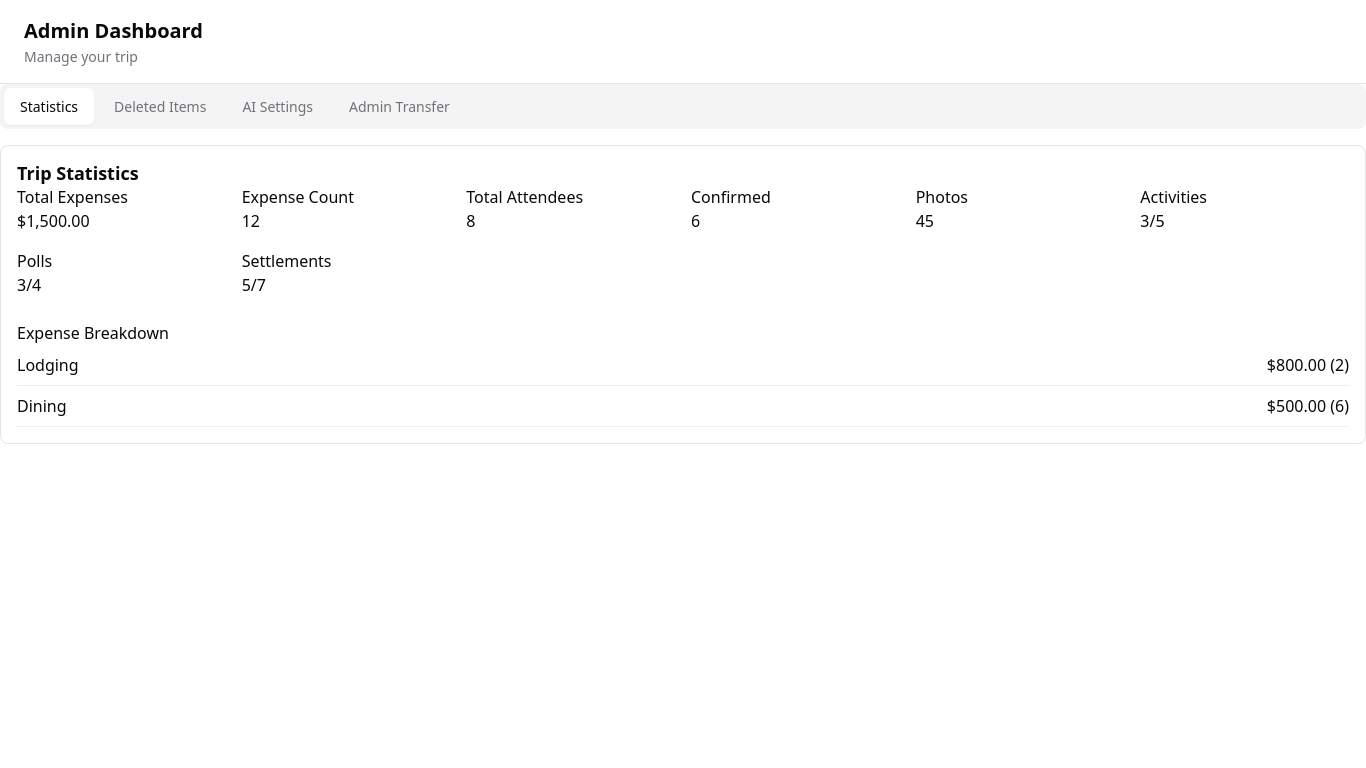
it: AdminPage › admin transfer tab › should open admin transfer modal
The width and height of the screenshot is (1366, 768).
Step 1. Click the tab "Admin Transfer" → (399, 106), box [333, 88, 466, 125]
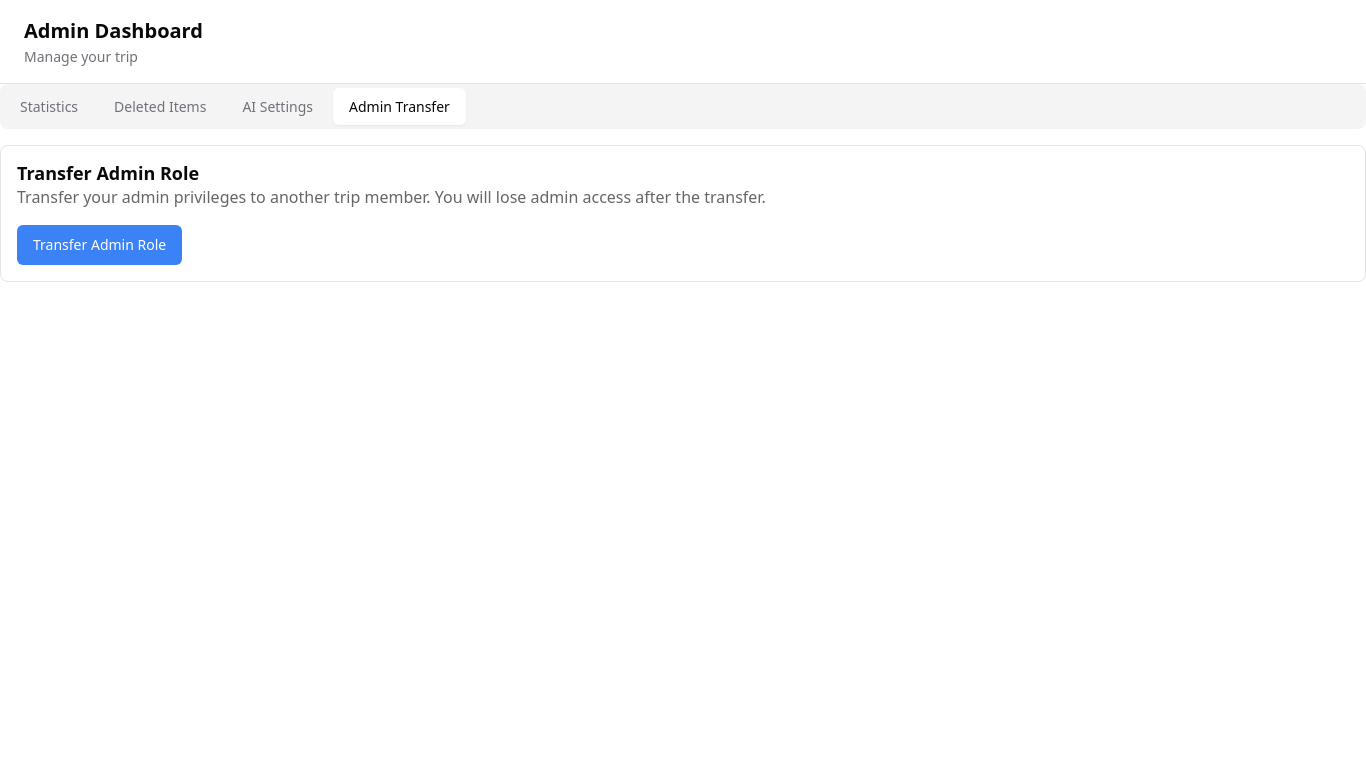
Check: the element with test id "admin-transfer-section" is shown, box [0, 145, 1365, 282]
Step 2. Click the button "Transfer Admin Role" → (100, 244), box [17, 224, 182, 264]
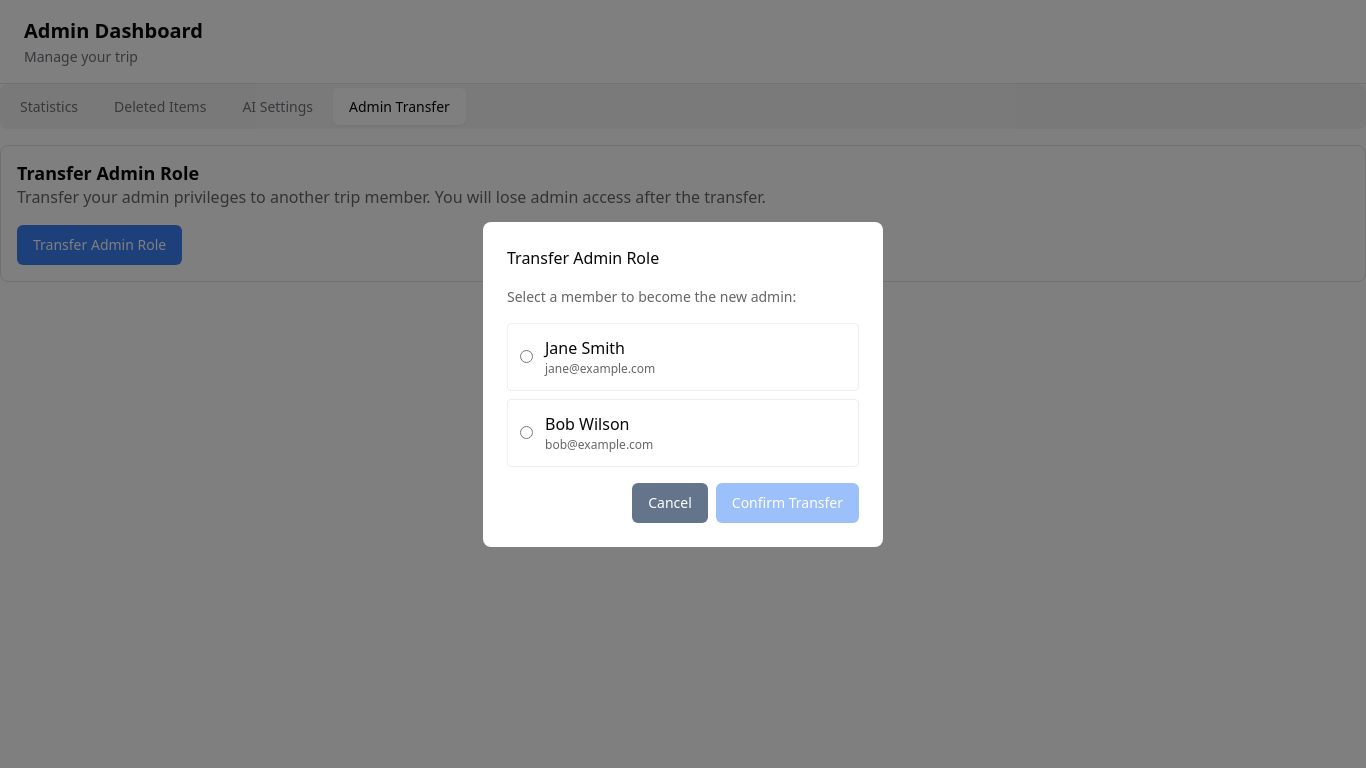
Check: the element with test id "admin-transfer-modal" is shown
